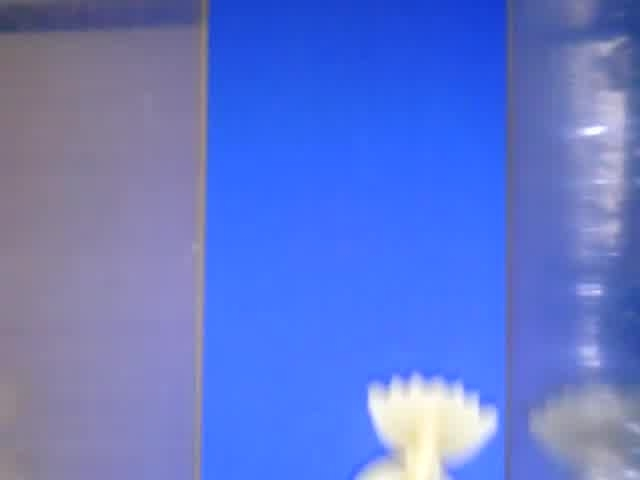farfalle: (354, 372, 497, 480)
